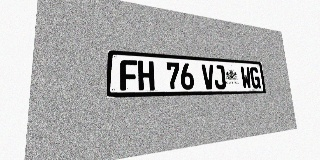6: (180, 63, 194, 90)
7: (165, 62, 181, 90)
F: (120, 59, 138, 91)
G: (249, 67, 261, 89)
H: (138, 60, 155, 90)
J: (213, 65, 226, 89)
V: (201, 64, 215, 89)
W: (240, 66, 252, 89)
